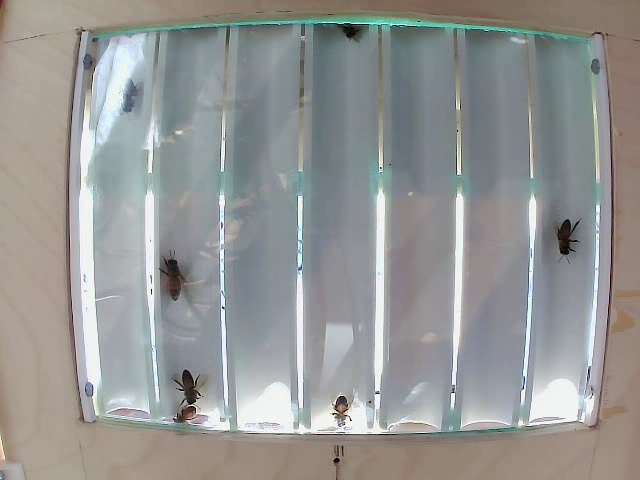bee: (170, 363, 213, 403), (157, 255, 192, 304), (556, 197, 572, 262)
